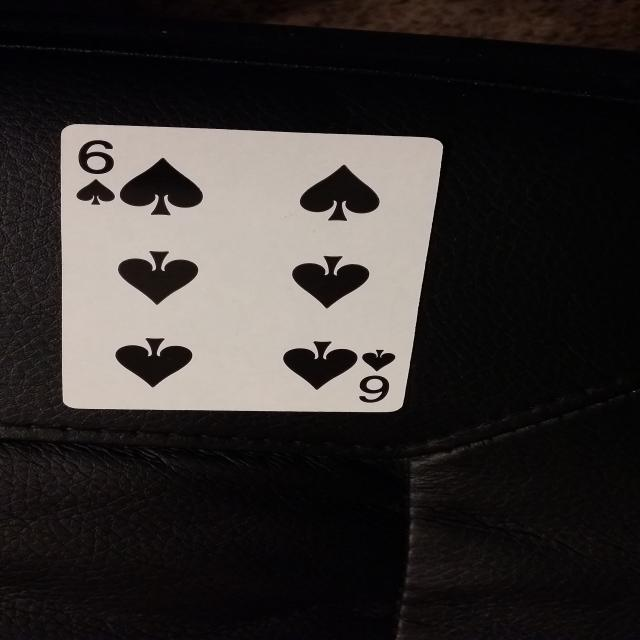6s: (66, 137, 131, 212), (355, 346, 401, 406)
